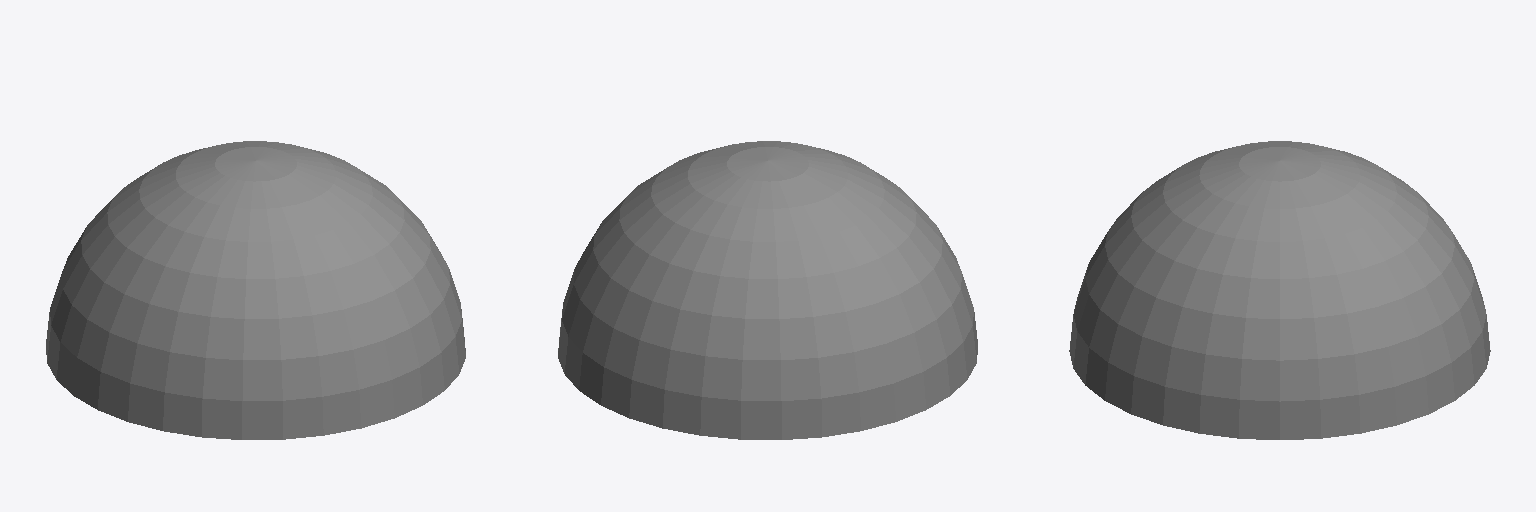
Rendered from sphe.obj.
3 renders of one model, left to right at view 1: azimuth 30°, elevation 25°; view 2: azimuth 150°, elevation 25°; view 3: azimuth 270°, elevation 25°, orthographic.
Size of the model in its own units: 8 by 4 by 8.